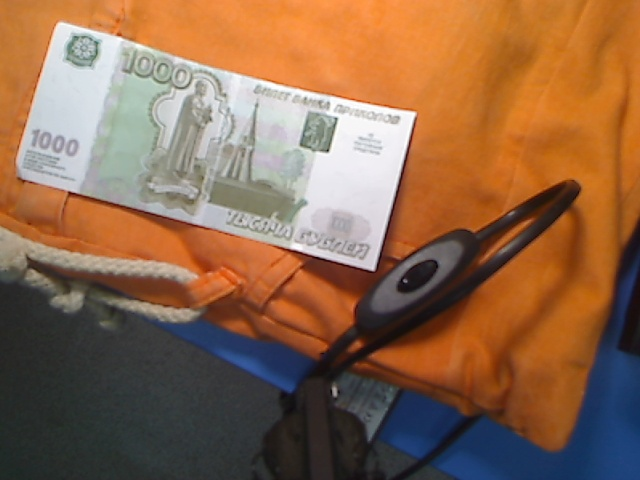banknotes: (14, 21, 419, 275)
